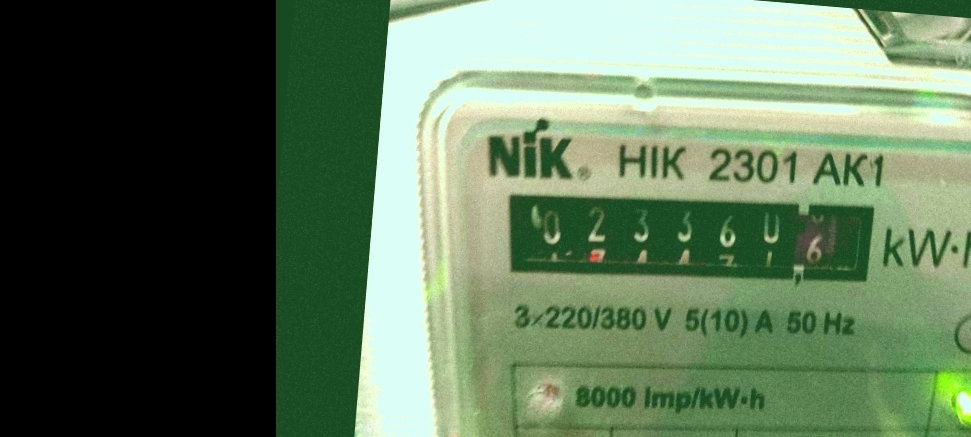0: (537, 204, 566, 248), (758, 207, 784, 246)
2: (582, 201, 611, 243)
3: (629, 203, 653, 245), (671, 205, 696, 244)
6: (713, 208, 742, 251), (804, 230, 827, 267)
screen: (480, 160, 890, 311)
